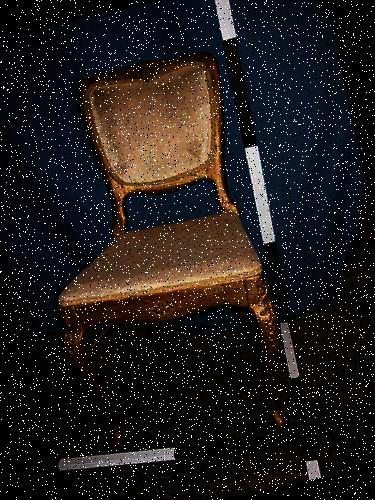Silla: (10, 45, 299, 462)
